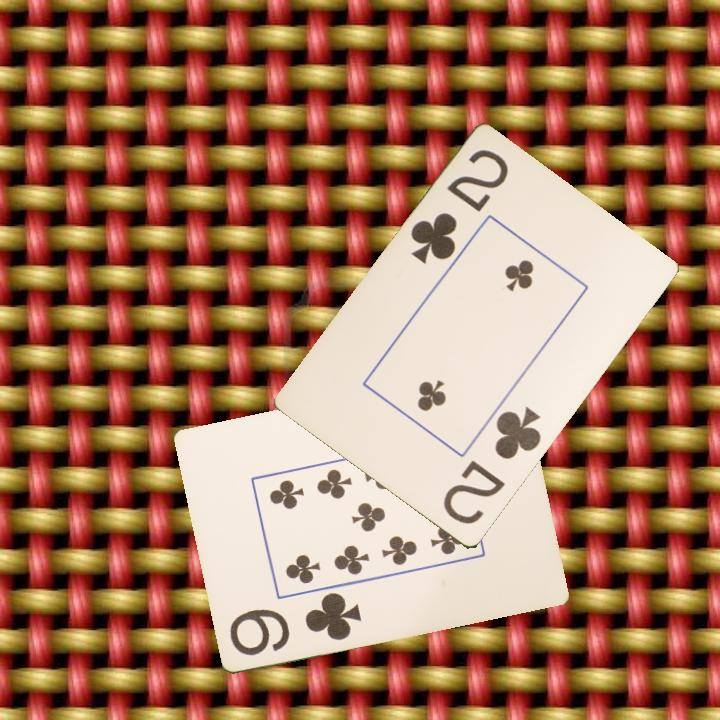2c: (439, 403, 545, 529), (406, 146, 512, 268)
9c: (226, 588, 365, 659)
